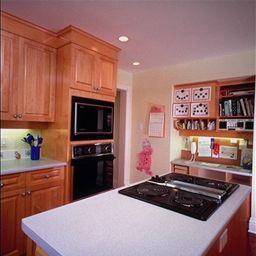Electrodomestico: (123, 172, 240, 221), (70, 143, 113, 190), (73, 97, 114, 139)
